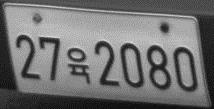0: (171, 45, 199, 92), (119, 41, 144, 89)
2: (93, 39, 121, 88), (14, 33, 41, 79)
7: (38, 34, 60, 81)
8: (145, 42, 172, 89)
육: (66, 46, 92, 85)
